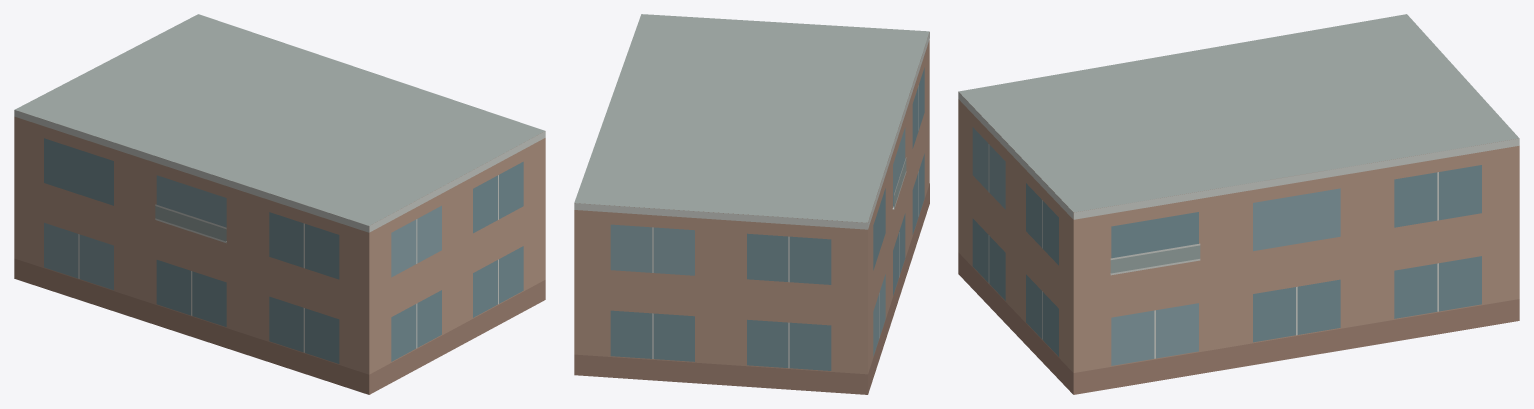
The model's file is survey-upis-32906621.glb.
3 views of the same model, side by side, from view 1: azimuth 30°, elevation 25°; view 2: azimuth 150°, elevation 25°; view 3: azimuth 270°, elevation 25° (orthographic). The views are drawn at different scales.
Visible parts, largest first — view 1: survey-upis-32906621.tmp; view 2: survey-upis-32906621.tmp; view 3: survey-upis-32906621.tmp.
Boxes of the visible parts, x1=… form: survey-upis-32906621.tmp: x1=14, y1=14, x2=545, y2=394; survey-upis-32906621.tmp: x1=574, y1=14, x2=929, y2=394; survey-upis-32906621.tmp: x1=958, y1=14, x2=1519, y2=394.
Size of the model in its own units: 14.25 by 6.1 by 17.03.
